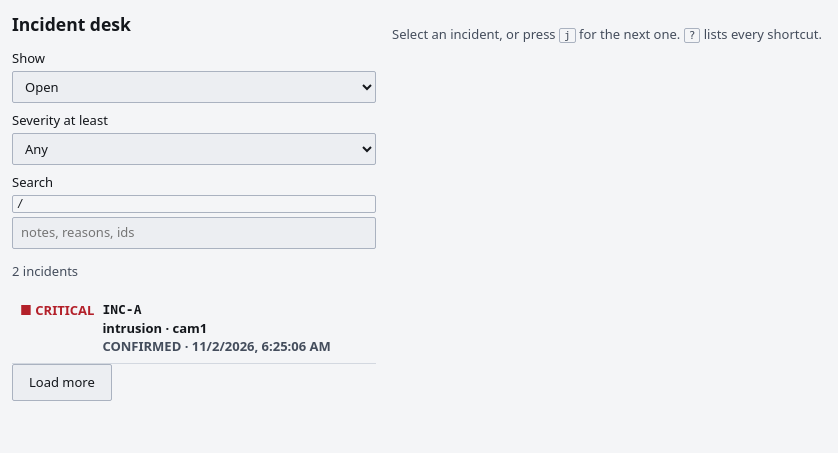
Test: the queue › loads the next page on request
Click the button "Load more" at x=62, y=382, box [12, 364, 112, 400]
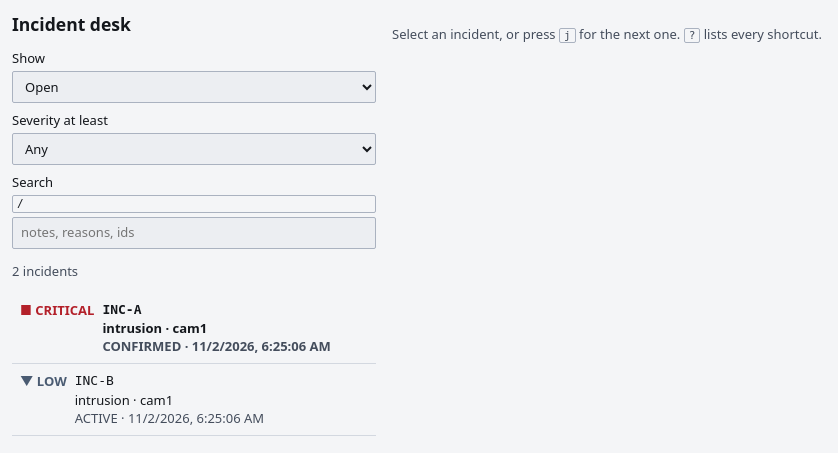
Expected: the text "INC-B" is shown, [75, 373, 114, 388]
